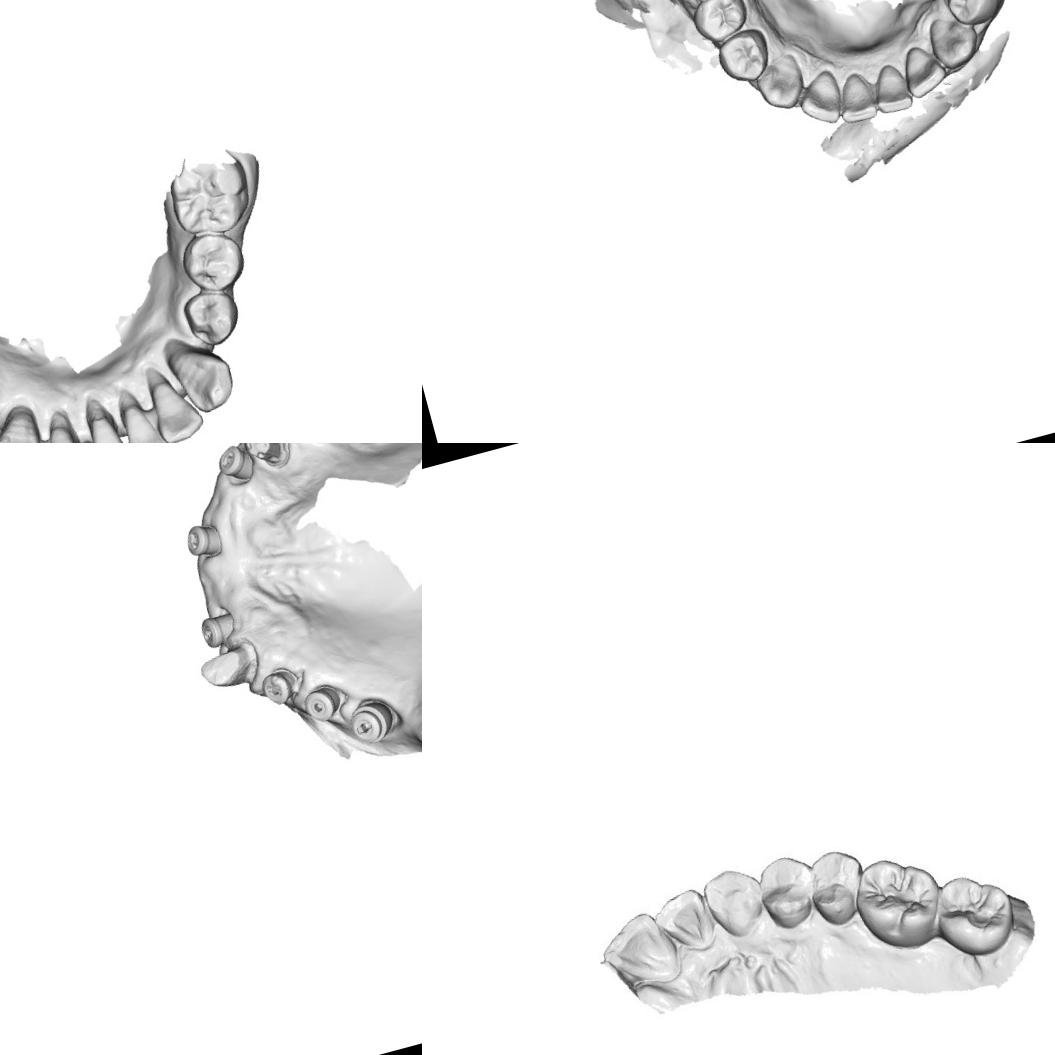canine: (168, 335, 239, 418), (700, 863, 772, 943), (749, 50, 810, 115), (926, 6, 984, 68), (0, 404, 52, 443)
crown: (194, 642, 262, 695), (233, 443, 291, 473)
implant: (299, 681, 347, 727)
implant_minus: (344, 694, 399, 748), (178, 513, 227, 562), (211, 443, 256, 488), (195, 609, 239, 650), (260, 667, 296, 708)
incisor: (594, 904, 684, 1001), (649, 883, 718, 964), (144, 369, 209, 443), (791, 66, 847, 132), (895, 38, 951, 101), (829, 67, 880, 127), (865, 57, 915, 117), (115, 396, 172, 443), (77, 405, 136, 443), (28, 419, 92, 443)
molar: (844, 846, 950, 958), (924, 864, 1022, 965), (162, 154, 258, 240)
premolar: (798, 844, 874, 931), (750, 850, 822, 932), (173, 224, 250, 296), (176, 282, 248, 352), (712, 23, 776, 88), (685, 0, 754, 47), (939, 0, 1005, 31)
